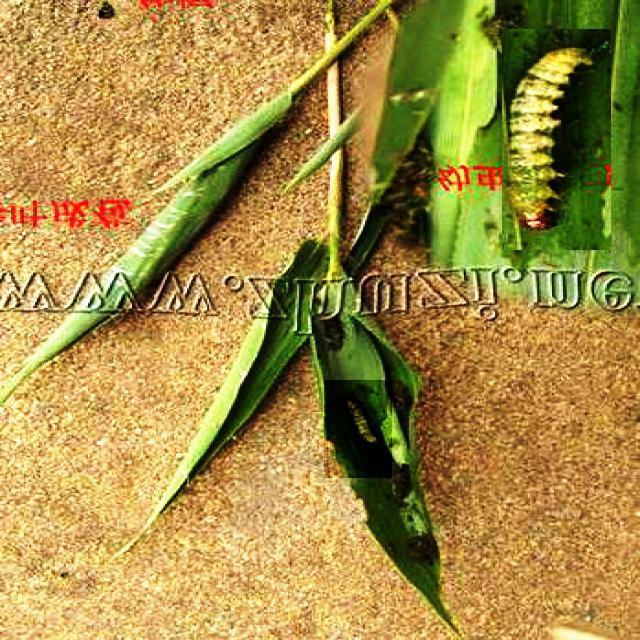leaf-folder: (502, 29, 611, 250), (324, 380, 392, 478)
